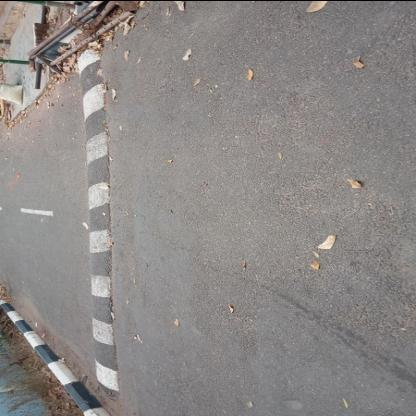speed-bumps: (73, 45, 123, 402)
